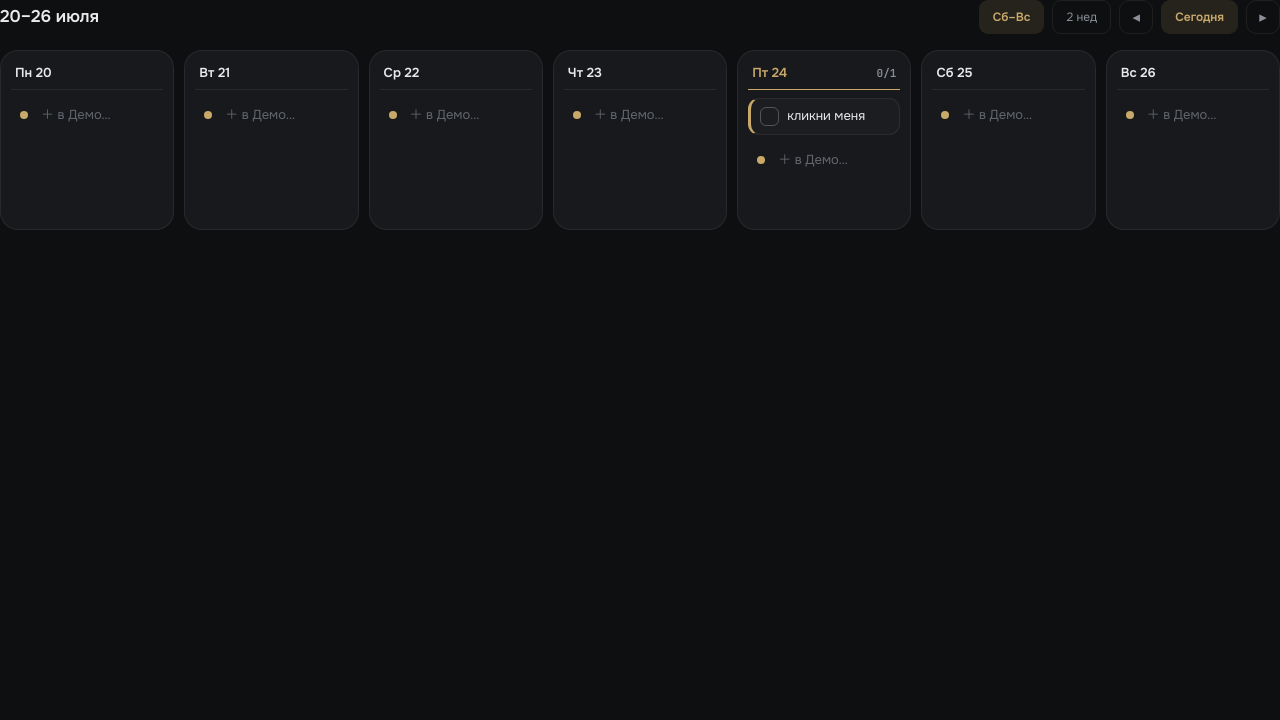
неделя › клик по телу карточки открывает модал, по чекбоксу — нет
Click the button with class "check".
click(770, 116)  # box [760,106,779,126]
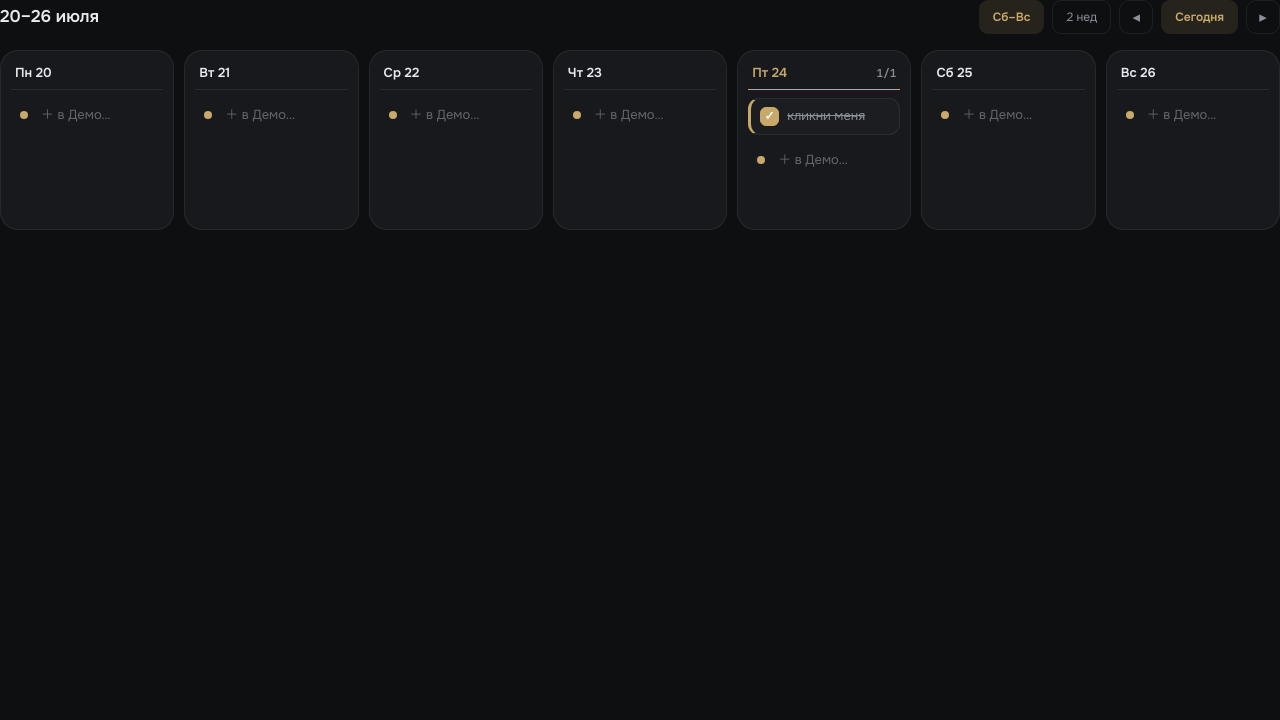
Click the text "кликни меня".
click(824, 116)  # box [748,98,900,134]
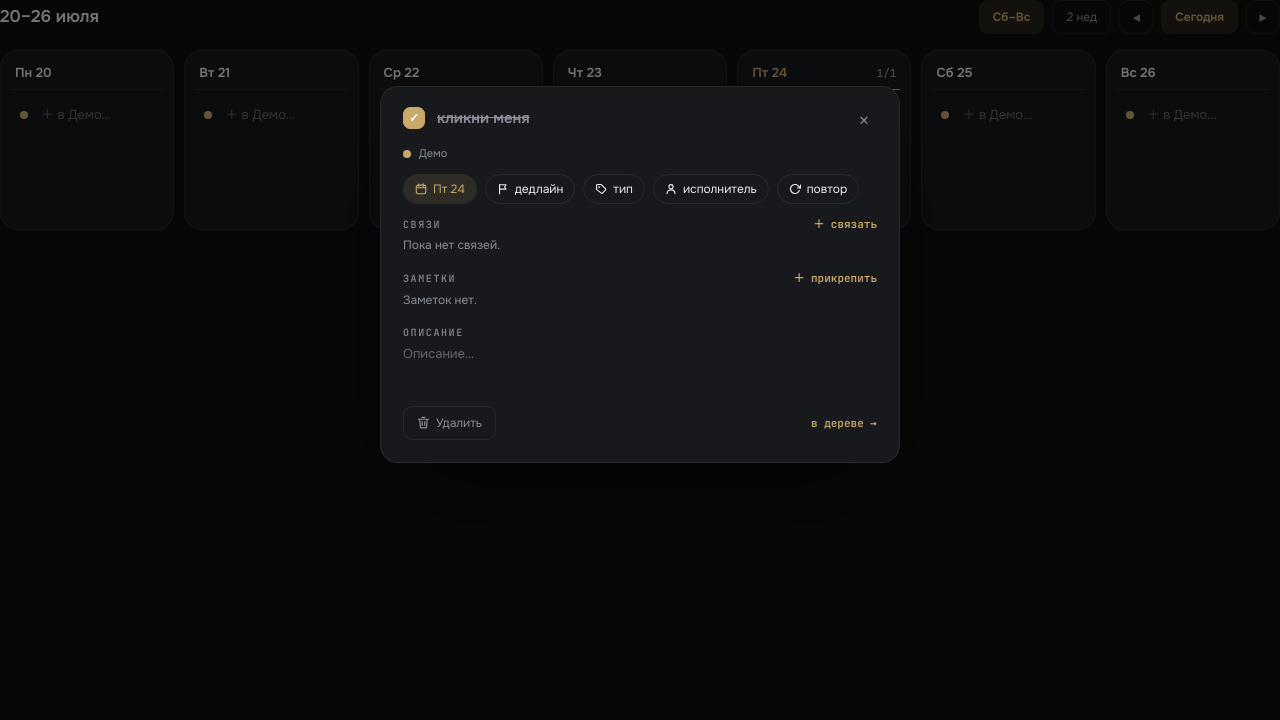
expect the dialog with class "sheet" is shown: met, box [380,86,900,463]
